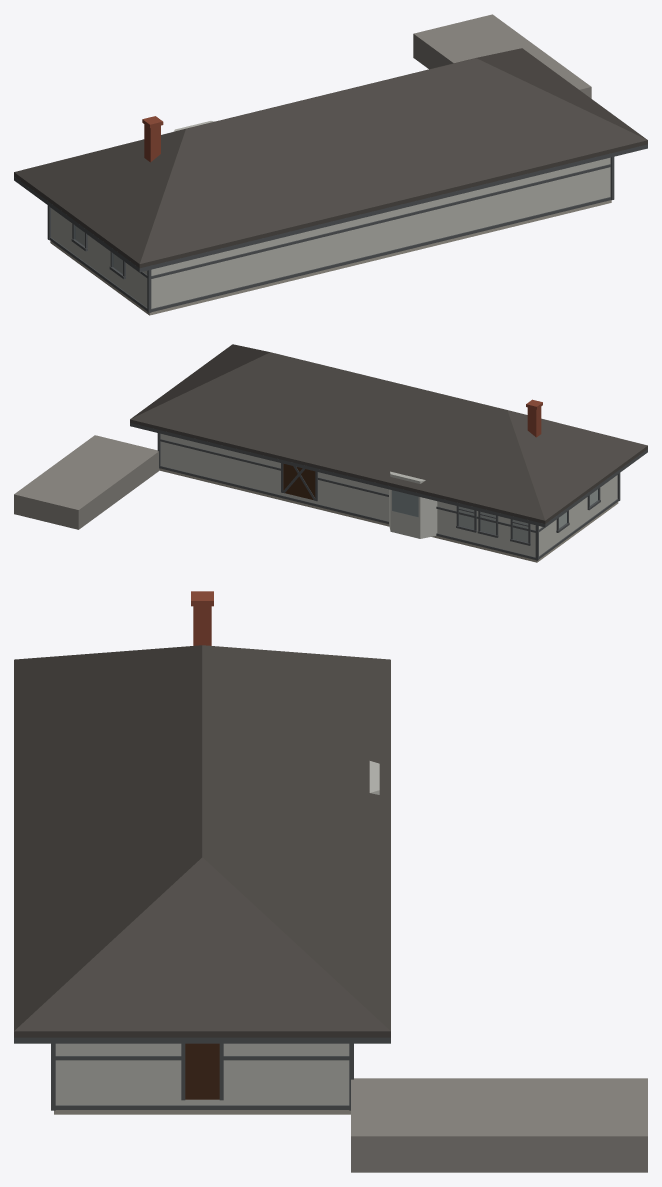
The model's file is Standard_10_Depot.glb.
3 renders of one model, top to bottom at view 1: azimuth 30°, elevation 25°; view 2: azimuth 150°, elevation 25°; view 3: azimuth 270°, elevation 25°, orthographic. The views are drawn at different scales.
Parts seen in each view (by area): view 1: roof, walls, trim, platform, foundation, chimney; view 2: roof, walls, platform, trim, glass, foundation, sash, doors, chimney; view 3: roof, platform, walls, trim, doors, foundation, chimney.
Part boxes in pixels (<box>): roof: <box>14,48,647,268</box>; walls: <box>51,121,610,308</box>; trim: <box>14,144,647,312</box>; platform: <box>413,14,591,98</box>; foundation: <box>50,200,611,315</box>; chimney: <box>142,116,163,162</box>; roof: <box>130,344,647,523</box>; walls: <box>160,434,617,557</box>; platform: <box>14,435,159,529</box>; trim: <box>130,423,647,560</box>; glass: <box>392,490,597,542</box>; foundation: <box>159,468,618,562</box>; sash: <box>456,487,600,545</box>; doors: <box>283,463,315,499</box>; chimney: <box>526,399,542,437</box>; roof: <box>14,645,390,1037</box>; platform: <box>351,1078,647,1172</box>; walls: <box>55,761,379,1105</box>; trim: <box>14,1037,390,1110</box>; doors: <box>185,1043,219,1099</box>; foundation: <box>54,1110,350,1114</box>; chimney: <box>191,591,213,645</box>.
Size of the model in its own units: 0.8986 by 0.2223 by 0.5833.
